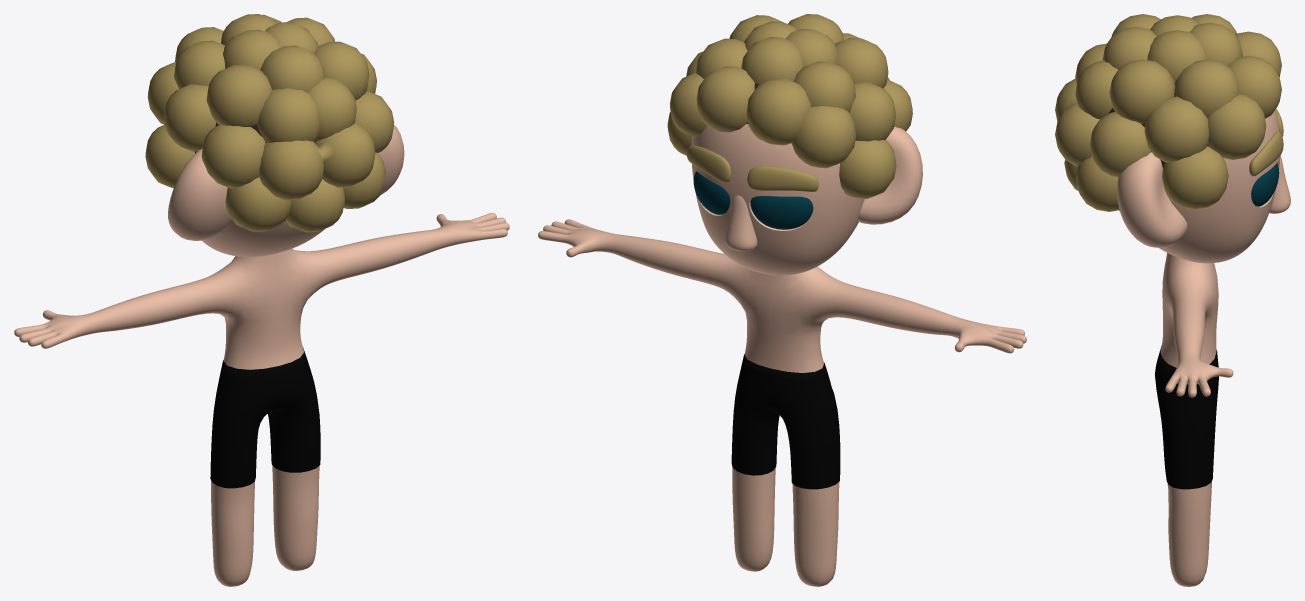
Rendered from MaleNPC2.fbx.
3 views of the same model, side by side, from view 1: azimuth 30°, elevation 25°; view 2: azimuth 150°, elevation 25°; view 3: azimuth 270°, elevation 25° (orthographic).
Visible parts, largest first — view 1: Cube, Body.003, Trousers.001, Head.003; view 2: Cube, Body.003, Head.003, Trousers.001, Brows.002; view 3: Cube, Head.003, Body.003, Trousers.001, Brows.002.
Part boxes in pixels (x1=…): Cube: x1=145, y1=14, x2=394, y2=232; Body.003: x1=14, y1=213, x2=509, y2=586; Trousers.001: x1=210, y1=347, x2=320, y2=488; Head.003: x1=168, y1=125, x2=404, y2=256; Cube: x1=667, y1=14, x2=912, y2=198; Body.003: x1=538, y1=219, x2=1026, y2=586; Head.003: x1=691, y1=124, x2=922, y2=275; Trousers.001: x1=731, y1=354, x2=840, y2=489; Brows.002: x1=686, y1=145, x2=818, y2=191; Cube: x1=1055, y1=14, x2=1281, y2=211; Head.003: x1=1117, y1=110, x2=1290, y2=263; Body.003: x1=1160, y1=253, x2=1233, y2=586; Trousers.001: x1=1155, y1=346, x2=1218, y2=489; Brows.002: x1=1249, y1=109, x2=1283, y2=176.
Size of the model in its own units: 172 by 187 by 73.48.
